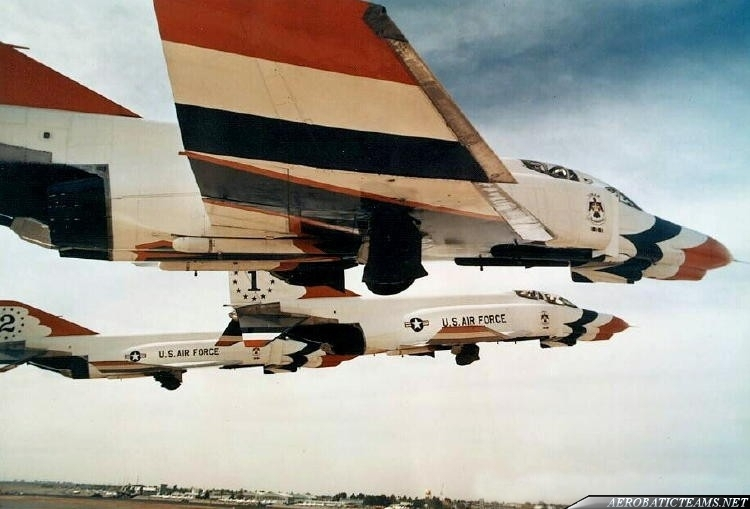F4: (1, 1, 750, 295), (212, 269, 640, 366), (1, 298, 359, 390)
